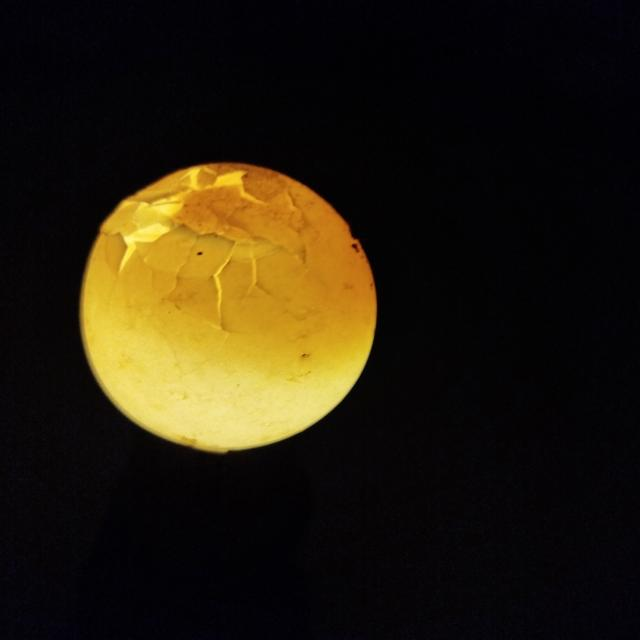Rachadura: (99, 164, 308, 333)
